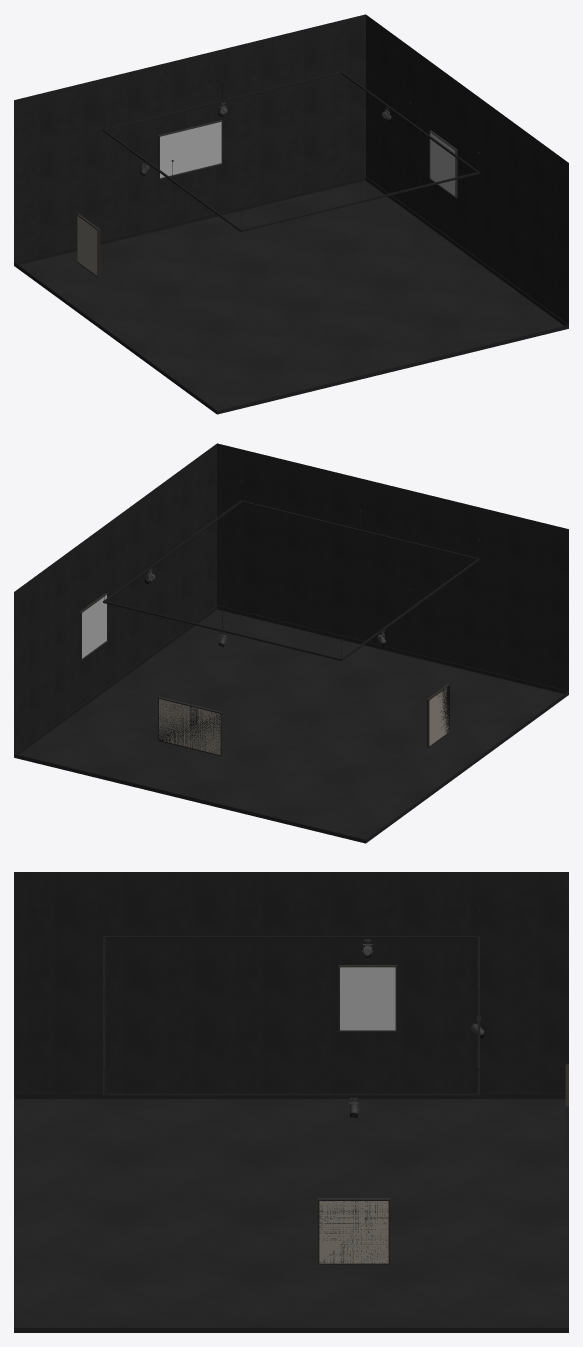
Rendered from gallery.glb.
3 views of the same model, one above another, from view 1: azimuth 30°, elevation 25°; view 2: azimuth 150°, elevation 25°; view 3: azimuth 270°, elevation 25° (orthographic). The views are drawn at different scales.
Parts seen in each view (by area): view 1: Floor, Wall_north, Wall_east, Artwork_02, Skirting_south, Skirting_north, Artwork_03, Skirting_west, Skirting_east, CanvasBody_01, Track_2, Track_1 (+2 smaller); view 2: Floor, Wall_south, Wall_east, CanvasBody_02, FrameTray_02, Skirting_north, Skirting_south, Artwork_03, Skirting_west, Skirting_east, CanvasBody_01, Track_1 (+3 smaller); view 3: Floor, Wall_west, CanvasBody_03, Artwork_01, Skirting_east, Skirting_west, Track_3, Track_4, FrameTray_03.
Boxes of the visible parts, <box> form: Floor: <box>19,180,563,410</box>; Wall_north: <box>14,14,365,261</box>; Wall_east: <box>366,15,568,324</box>; Artwork_02: <box>160,122,221,177</box>; Skirting_south: <box>216,325,568,414</box>; Skirting_north: <box>14,176,365,264</box>; Artwork_03: <box>430,132,455,195</box>; Skirting_west: <box>14,262,217,413</box>; Skirting_east: <box>365,177,568,325</box>; CanvasBody_01: <box>77,216,97,276</box>; Track_2: <box>240,172,479,231</box>; Track_1: <box>103,71,342,130</box>; Floor: <box>19,609,563,839</box>; Wall_south: <box>217,443,568,690</box>; Wall_east: <box>14,444,216,753</box>; CanvasBody_02: <box>159,699,220,754</box>; FrameTray_02: <box>158,698,221,755</box>; Skirting_north: <box>14,754,366,843</box>; Skirting_south: <box>217,605,568,693</box>; Artwork_03: <box>82,595,106,658</box>; Skirting_west: <box>365,691,568,842</box>; Skirting_east: <box>14,606,217,754</box>; CanvasBody_01: <box>429,688,449,745</box>; Track_1: <box>103,601,342,660</box>; Floor: <box>15,1099,567,1327</box>; Wall_west: <box>14,872,568,1093</box>; CanvasBody_03: <box>319,1201,388,1263</box>; Artwork_01: <box>340,967,395,1030</box>; Skirting_east: <box>14,1327,568,1332</box>; Skirting_west: <box>15,1093,565,1098</box>; Track_3: <box>104,1094,477,1097</box>; Track_4: <box>105,936,477,939</box>; FrameTray_03: <box>318,1200,389,1264</box>.
Bounding box in the file's own units: 8 × 3.6 × 8.
14 materials, 2 textured.
